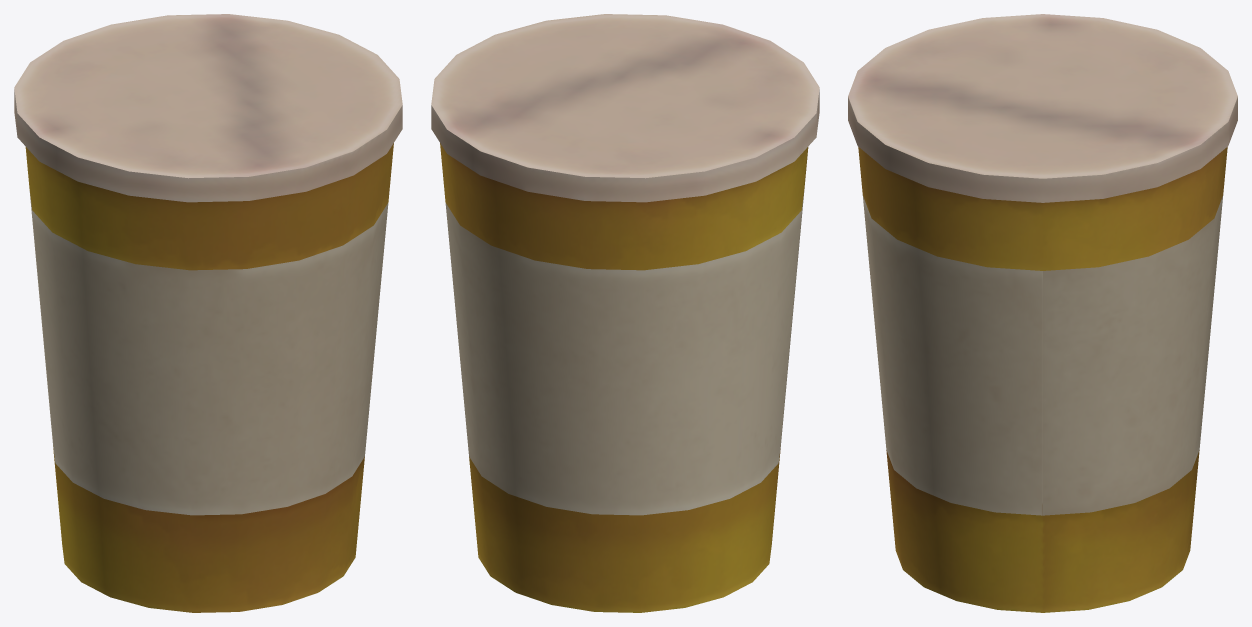
Rendered from SM_FoodPot_10.fbx.
3 renders of one model, left to right at view 1: azimuth 30°, elevation 25°; view 2: azimuth 150°, elevation 25°; view 3: azimuth 270°, elevation 25°, orthographic.
Parts seen in each view (by area): view 1: SM_FoodPot_10_LOD0; view 2: SM_FoodPot_10_LOD0; view 3: SM_FoodPot_10_LOD0.
Part boxes in pixels (left/top/right/bottom): SM_FoodPot_10_LOD0: left=14, top=14, right=402, bottom=612; SM_FoodPot_10_LOD0: left=431, top=14, right=819, bottom=612; SM_FoodPot_10_LOD0: left=848, top=14, right=1237, bottom=612.
Size of the model in its own units: 9.06 by 9.06 by 11.65.
2 materials, 2 textured.
